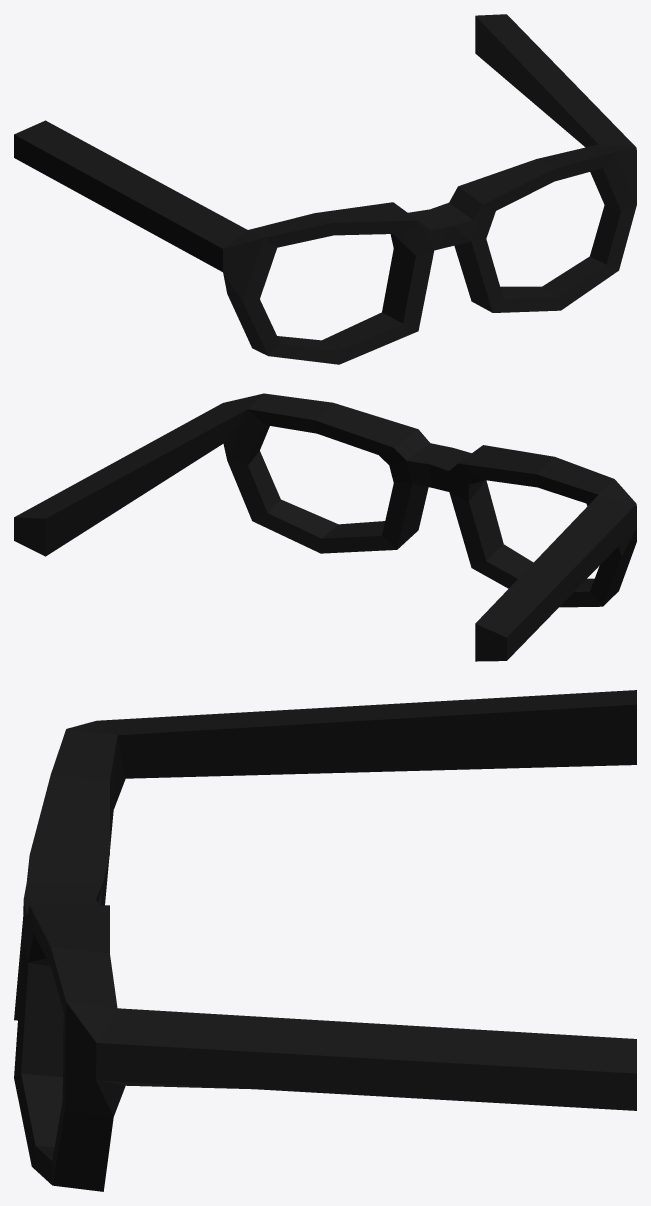
File: SM_Chr_Attach_Glasses_02.fbx
3 renders of one model, top to bottom at view 1: azimuth 30°, elevation 25°; view 2: azimuth 150°, elevation 25°; view 3: azimuth 270°, elevation 25°, orthographic. The views are drawn at different scales.
Visible parts, largest first — view 1: SM_Chr_Attach_Glasses_02; view 2: SM_Chr_Attach_Glasses_02; view 3: SM_Chr_Attach_Glasses_02.
Boxes of the visible parts, x1,y1,x2,y2 form: SM_Chr_Attach_Glasses_02: (14, 14, 636, 364); SM_Chr_Attach_Glasses_02: (14, 393, 636, 661); SM_Chr_Attach_Glasses_02: (14, 690, 636, 1191).
Size of the model in its own units: 24.19 by 6.65 by 16.6.
